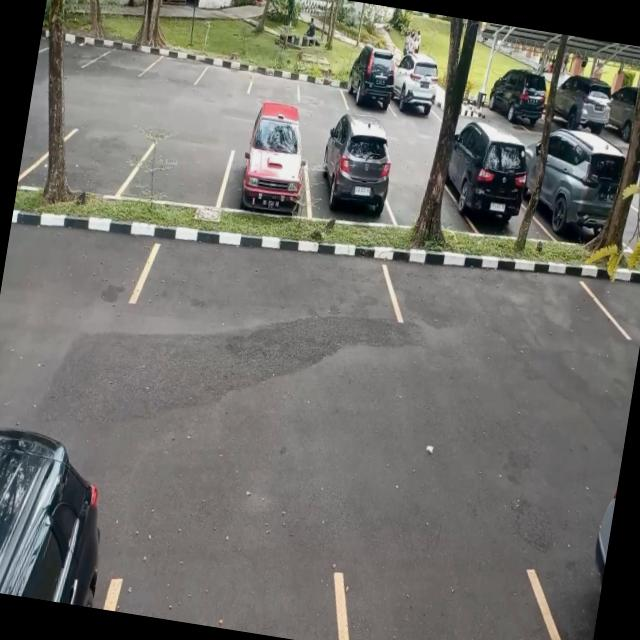car: (441, 132, 533, 244), (534, 140, 626, 251), (308, 130, 400, 231), (221, 126, 314, 222), (391, 58, 444, 123), (345, 61, 399, 118)
free: (139, 222, 401, 344), (109, 534, 361, 640), (380, 250, 610, 360), (331, 545, 588, 640), (1, 209, 153, 312), (42, 122, 142, 204), (130, 133, 230, 214), (602, 271, 640, 345), (93, 35, 155, 76), (17, 118, 50, 192), (148, 46, 206, 88), (200, 56, 256, 96), (296, 68, 348, 108), (249, 69, 303, 106)
